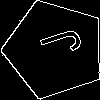J: (30, 24, 84, 64)
